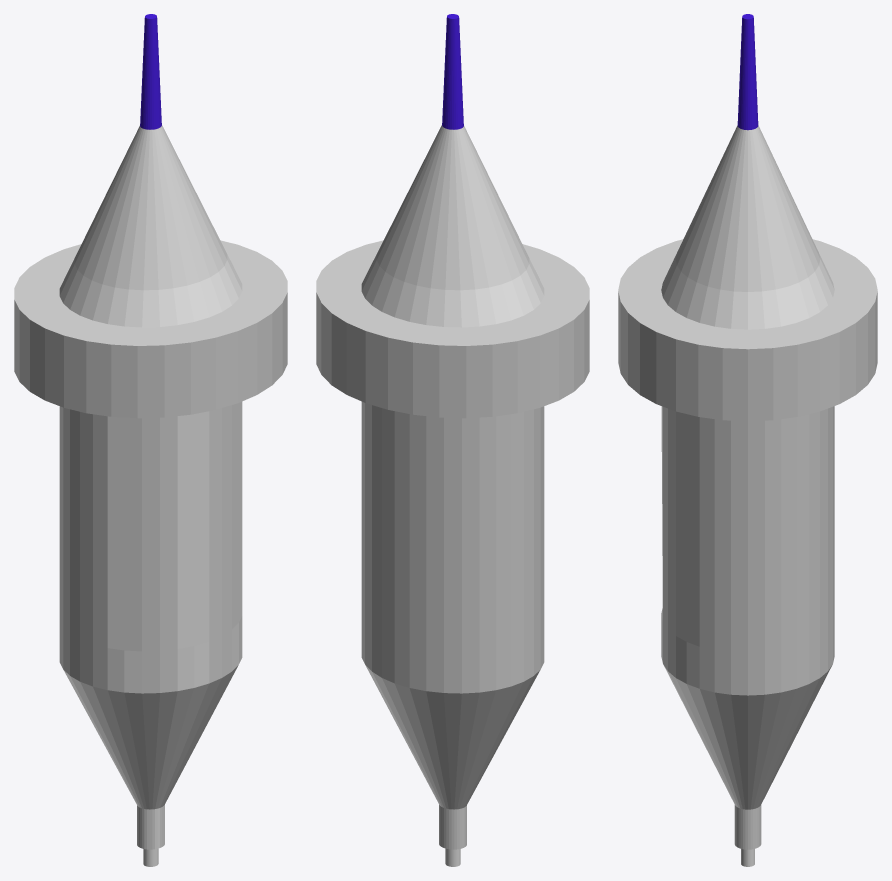
The model's file is sikh_door_window.fbx.
3 views of the same model, side by side, from view 1: azimuth 30°, elevation 25°; view 2: azimuth 150°, elevation 25°; view 3: azimuth 270°, elevation 25° (orthographic).
Parts seen in each view (by area): view 1: Cube.001; view 2: Cube.001; view 3: Cube.001.
Boxes of the visible parts, box(x1,y1,x2,y2) form: Cube.001: box(14, 14, 287, 866); Cube.001: box(316, 14, 589, 866); Cube.001: box(618, 14, 877, 866).
Size of the model in its own units: 10141 by 33916 by 9418.
